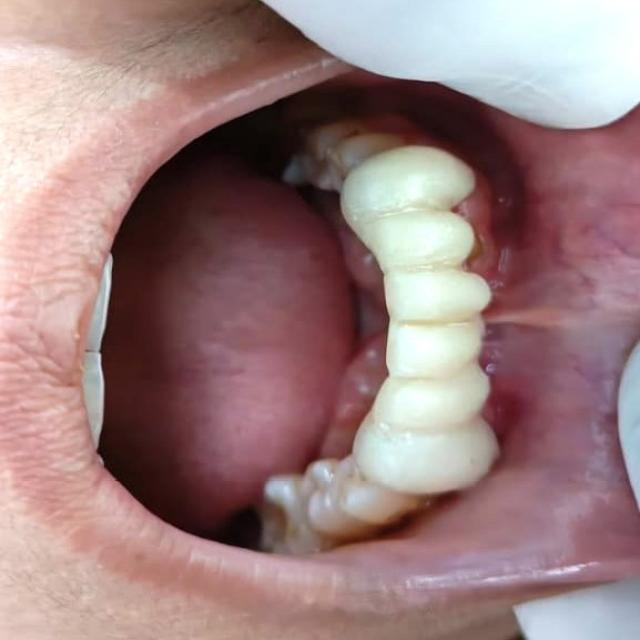No Cancer: (174, 206, 349, 440), (502, 208, 619, 445)
